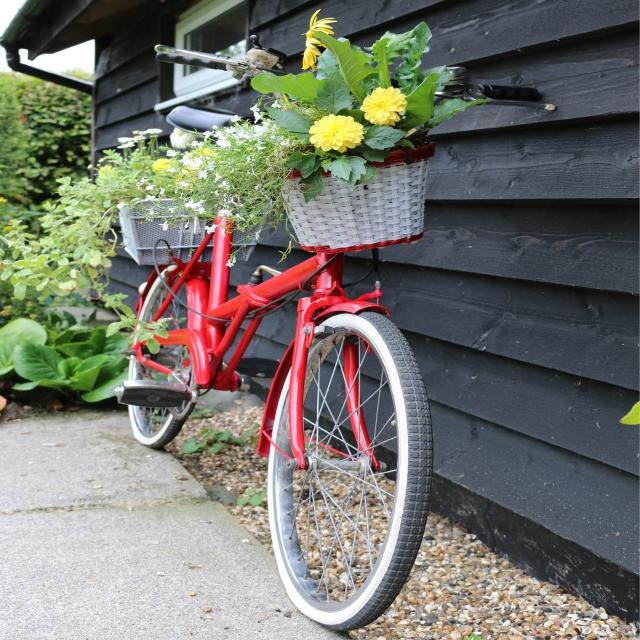urban-bike: (119, 40, 558, 630)
